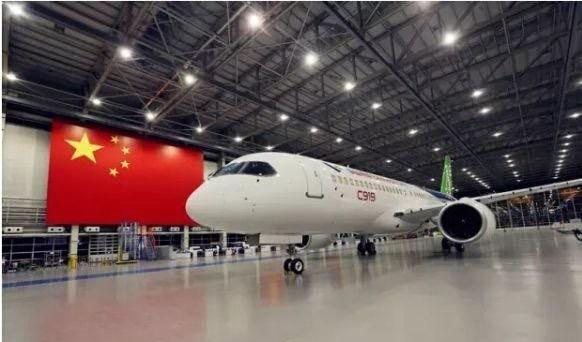airplane: (184, 150, 578, 259)
